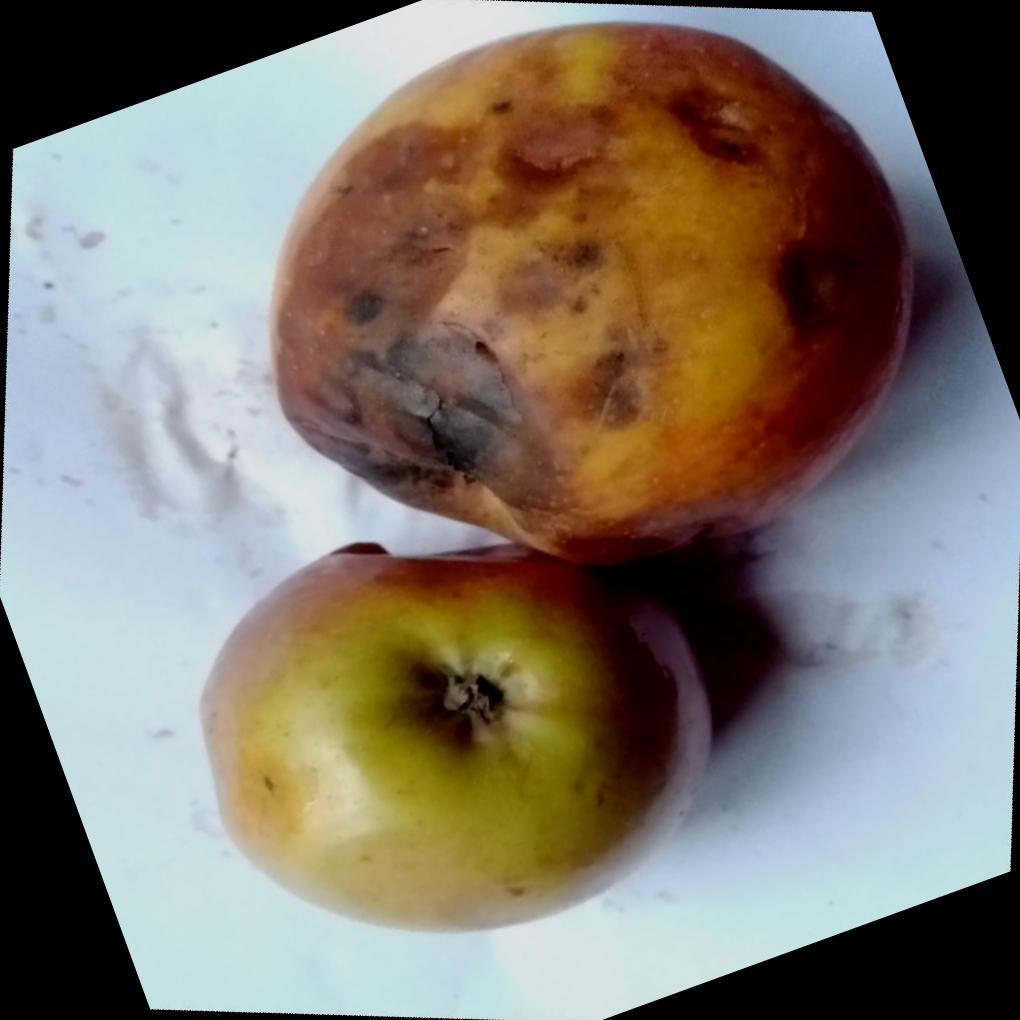FreshOrange: (193, 18, 985, 938)
